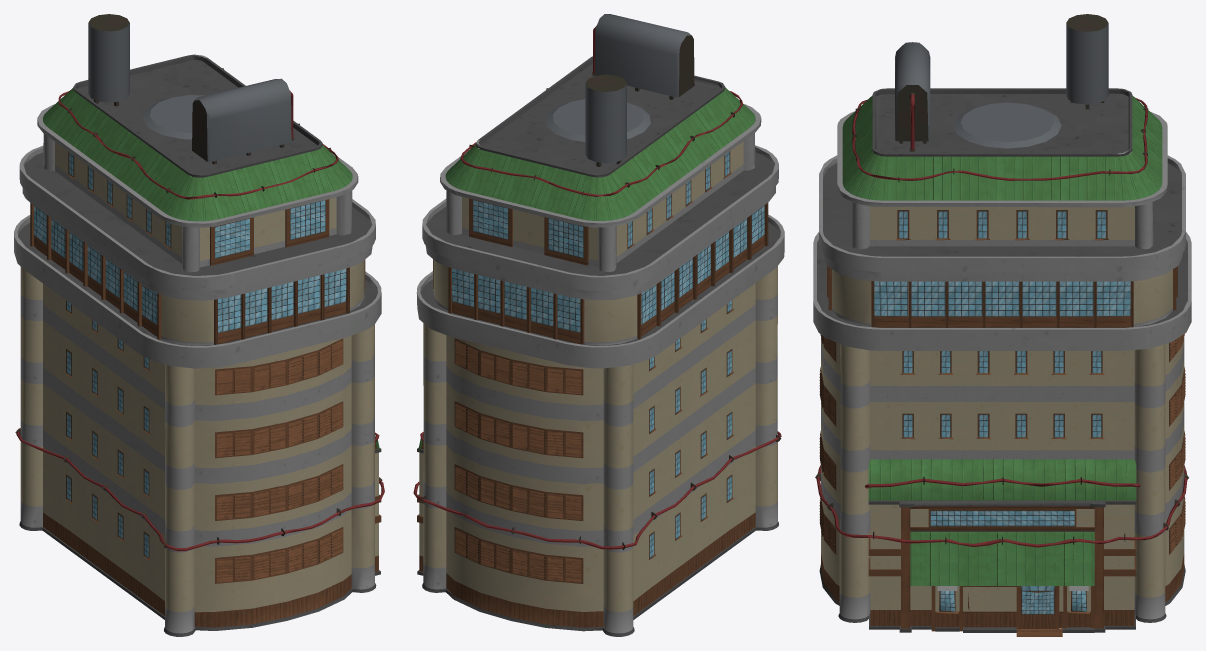
The model's file is SM_ENV_LKNVLD_CommonBuilding_D.FBX.
3 views of the same model, side by side, from view 1: azimuth 30°, elevation 25°; view 2: azimuth 150°, elevation 25°; view 3: azimuth 270°, elevation 25° (orthographic). The views are drawn at different scales.
Parts seen in each view (by area): view 1: SM_ENV_LKNVLD_CommonBuilding_D; view 2: SM_ENV_LKNVLD_CommonBuilding_D; view 3: SM_ENV_LKNVLD_CommonBuilding_D.
Boxes of the visible parts, x1,y1,x2,y2 form: SM_ENV_LKNVLD_CommonBuilding_D: [14, 14, 384, 636]; SM_ENV_LKNVLD_CommonBuilding_D: [413, 14, 784, 636]; SM_ENV_LKNVLD_CommonBuilding_D: [813, 14, 1191, 636].
Size of the model in its own units: 2494 by 4906 by 3206.
